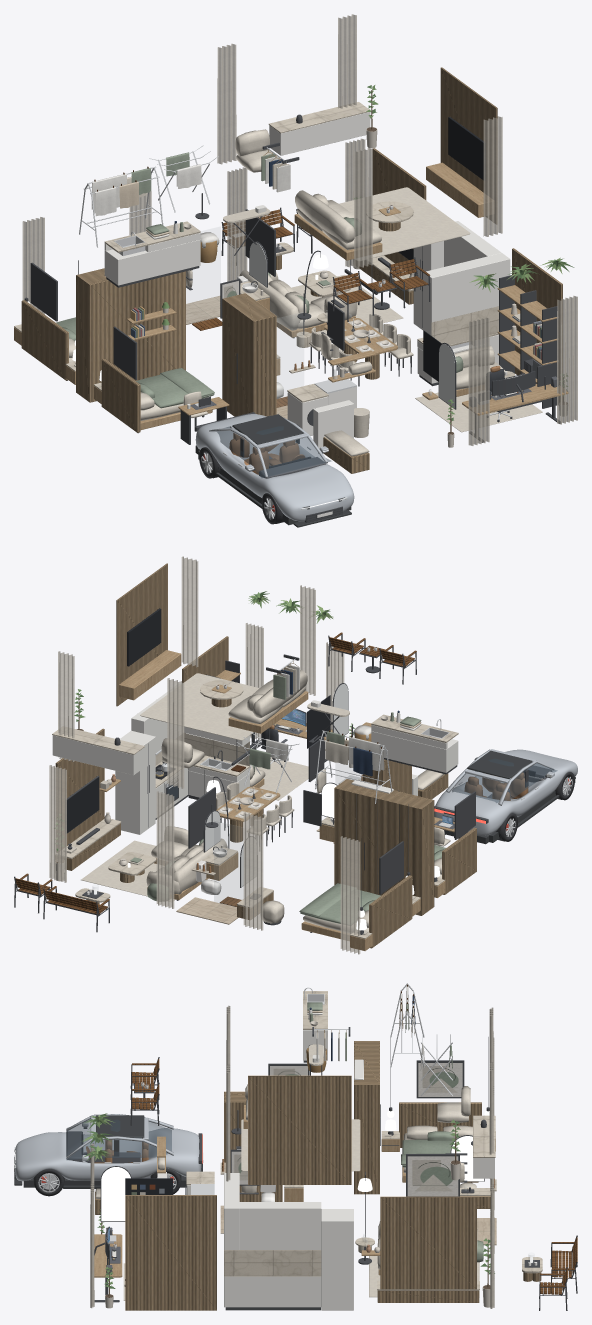
Rendered from furniture-scandinavian.glb.
3 views of the same model, one above another, from view 1: azimuth 30°, elevation 25°; view 2: azimuth 150°, elevation 25°; view 3: azimuth 270°, elevation 25° (orthographic). The views are drawn at different scales.
Parts seen in each view (by area): view 1: Scandinavian_F-MB-WARD_Carcass, Scandinavian_F-B2-WARD_Carcass, Scandinavian_F-CP-CAR_Body, Scandinavian_L2_Lounge_MediaSlat, Scandinavian_F-KT-S_UpperCab, Scandinavian_L2_Lounge_Rug, Scandinavian_Curtain_Studio_W, Scandinavian_L2_Jemuran_CabLow, Scandinavian_F-CP-CAR_Glasshouse, Scandinavian_Curtain_Studio_E, Scandinavian_F-MB-BED_Headboard, Scandinavian_L2_Curtain_Balc_E (+45 smaller); view 2: Scandinavian_F-MB-WARD_Carcass, Scandinavian_F-CP-CAR_Body, Scandinavian_L2_Lounge_Rug, Scandinavian_L2_Lounge_MediaSlat, Scandinavian_F-KT-FRIDGE_Body, Scandinavian_Curtain_Master_E, Scandinavian_Curtain_Master_W, Scandinavian_F-ME-SHW_GlassPanel, Scandinavian_Curtain_Living_W, Scandinavian_F-LV-TV_FeaturePanel, Scandinavian_Curtain_Living_E, Scandinavian_L2_Jemuran_CabLow (+46 smaller); view 3: Scandinavian_L2_Lounge_MediaSlat, Scandinavian_F-ST-SHELF_AcousticSlatPanel, Scandinavian_F-LV-TV_FeaturePanel, Scandinavian_F-CP-CAR_Body, Scandinavian_F-KT-E_UpperCab, Scandinavian_F-KT-FRIDGE_Body, Scandinavian_F-MB-WARD_Carcass, Scandinavian_F-KT-E_BaseCab, Scandinavian_F-KT-E_Backsplash, Scandinavian_F-CP-CAR_Glasshouse, Scandinavian_ArtLiving_Canvas, Scandinavian_F-MB-BED_Headboard (+22 smaller).
Part boxes in pixels (bbox=[...]): Scandinavian_F-MB-WARD_Carcass: bbox=[76, 268, 185, 402]; Scandinavian_F-B2-WARD_Carcass: bbox=[222, 293, 276, 416]; Scandinavian_F-CP-CAR_Body: bbox=[195, 414, 354, 521]; Scandinavian_L2_Lounge_MediaSlat: bbox=[440, 67, 497, 223]; Scandinavian_F-KT-S_UpperCab: bbox=[423, 253, 510, 322]; Scandinavian_L2_Lounge_Rug: bbox=[339, 187, 470, 260]; Scandinavian_Curtain_Studio_W: bbox=[468, 317, 489, 445]; Scandinavian_L2_Jemuran_CabLow: bbox=[104, 239, 200, 285]; Scandinavian_F-CP-CAR_Glasshouse: bbox=[217, 426, 331, 477]; Scandinavian_Curtain_Studio_E: bbox=[557, 295, 577, 424]; Scandinavian_F-MB-BED_Headboard: bbox=[21, 300, 68, 380]; Scandinavian_L2_Curtain_Balc_E: bbox=[483, 116, 502, 236]; Scandinavian_F-MB-WARD_Carcass: bbox=[334, 779, 434, 915]; Scandinavian_F-CP-CAR_Body: bbox=[434, 749, 577, 835]; Scandinavian_L2_Lounge_Rug: bbox=[140, 673, 259, 740]; Scandinavian_L2_Lounge_MediaSlat: bbox=[116, 563, 167, 706]; Scandinavian_F-KT-FRIDGE_Body: bbox=[115, 730, 155, 834]; Scandinavian_Curtain_Master_E: bbox=[243, 812, 263, 930]; Scandinavian_Curtain_Master_W: bbox=[340, 836, 360, 954]; Scandinavian_F-ME-SHW_GlassPanel: bbox=[214, 821, 243, 906]; Scandinavian_Curtain_Living_W: bbox=[156, 791, 174, 908]; Scandinavian_F-LV-TV_FeaturePanel: bbox=[55, 728, 104, 852]; Scandinavian_Curtain_Living_E: bbox=[49, 765, 66, 882]; Scandinavian_L2_Jemuran_CabLow: bbox=[371, 731, 458, 772]; Scandinavian_L2_Lounge_MediaSlat: bbox=[248, 1075, 351, 1184]; Scandinavian_F-ST-SHELF_AcousticSlatPanel: bbox=[125, 1195, 216, 1310]; Scandinavian_F-LV-TV_FeaturePanel: bbox=[380, 1196, 476, 1289]; Scandinavian_F-CP-CAR_Body: bbox=[14, 1128, 201, 1181]; Scandinavian_F-KT-E_UpperCab: bbox=[239, 1202, 321, 1249]; Scandinavian_F-KT-FRIDGE_Body: bbox=[321, 1209, 353, 1310]; Scandinavian_F-MB-WARD_Carcass: bbox=[354, 1041, 379, 1194]; Scandinavian_F-KT-E_BaseCab: bbox=[224, 1276, 321, 1307]; Scandinavian_F-KT-E_Backsplash: bbox=[225, 1250, 321, 1275]; Scandinavian_F-CP-CAR_Glasshouse: bbox=[66, 1118, 171, 1160]; Scandinavian_ArtLiving_Canvas: bbox=[407, 1156, 458, 1196]; Scandinavian_F-MB-BED_Headboard: bbox=[399, 1102, 481, 1147].
Bounding box in the file's own units: 8.74 × 6.12 × 13.03.
51 materials, 18 textured.
